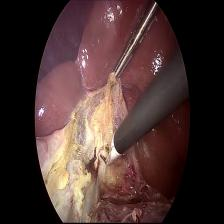Grasper: (105, 2, 163, 91)
Hook: (94, 126, 123, 177)
